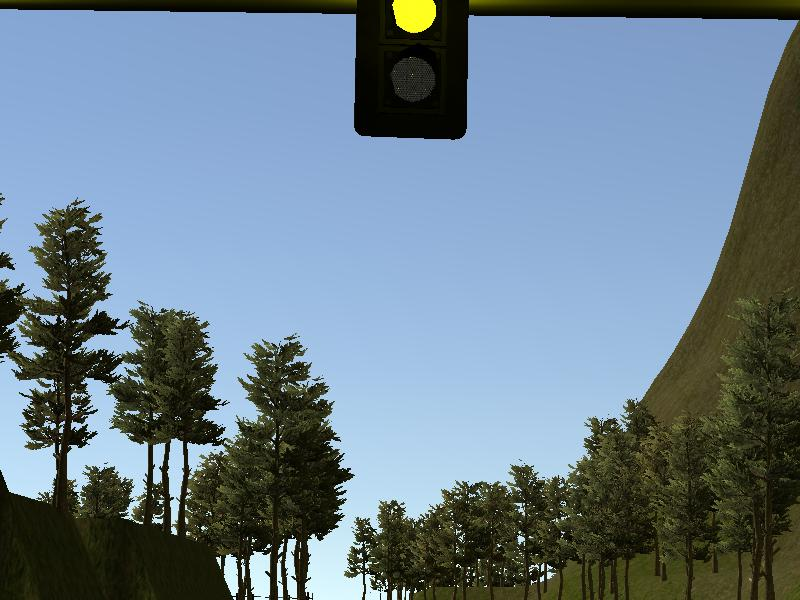Yellow: (352, 1, 470, 134)
